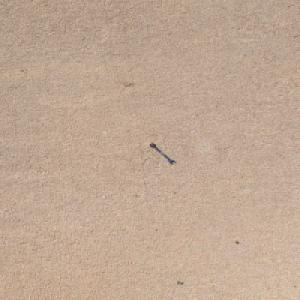Wrench: (149, 142, 176, 164)
